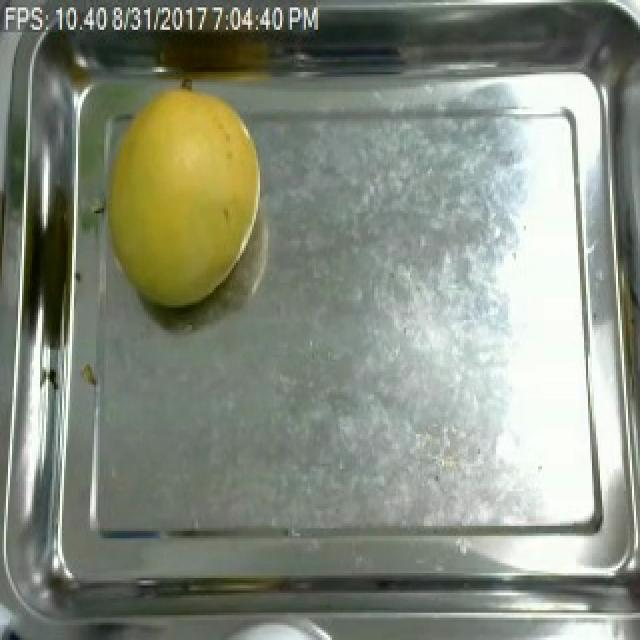fruit: (96, 77, 272, 320)
